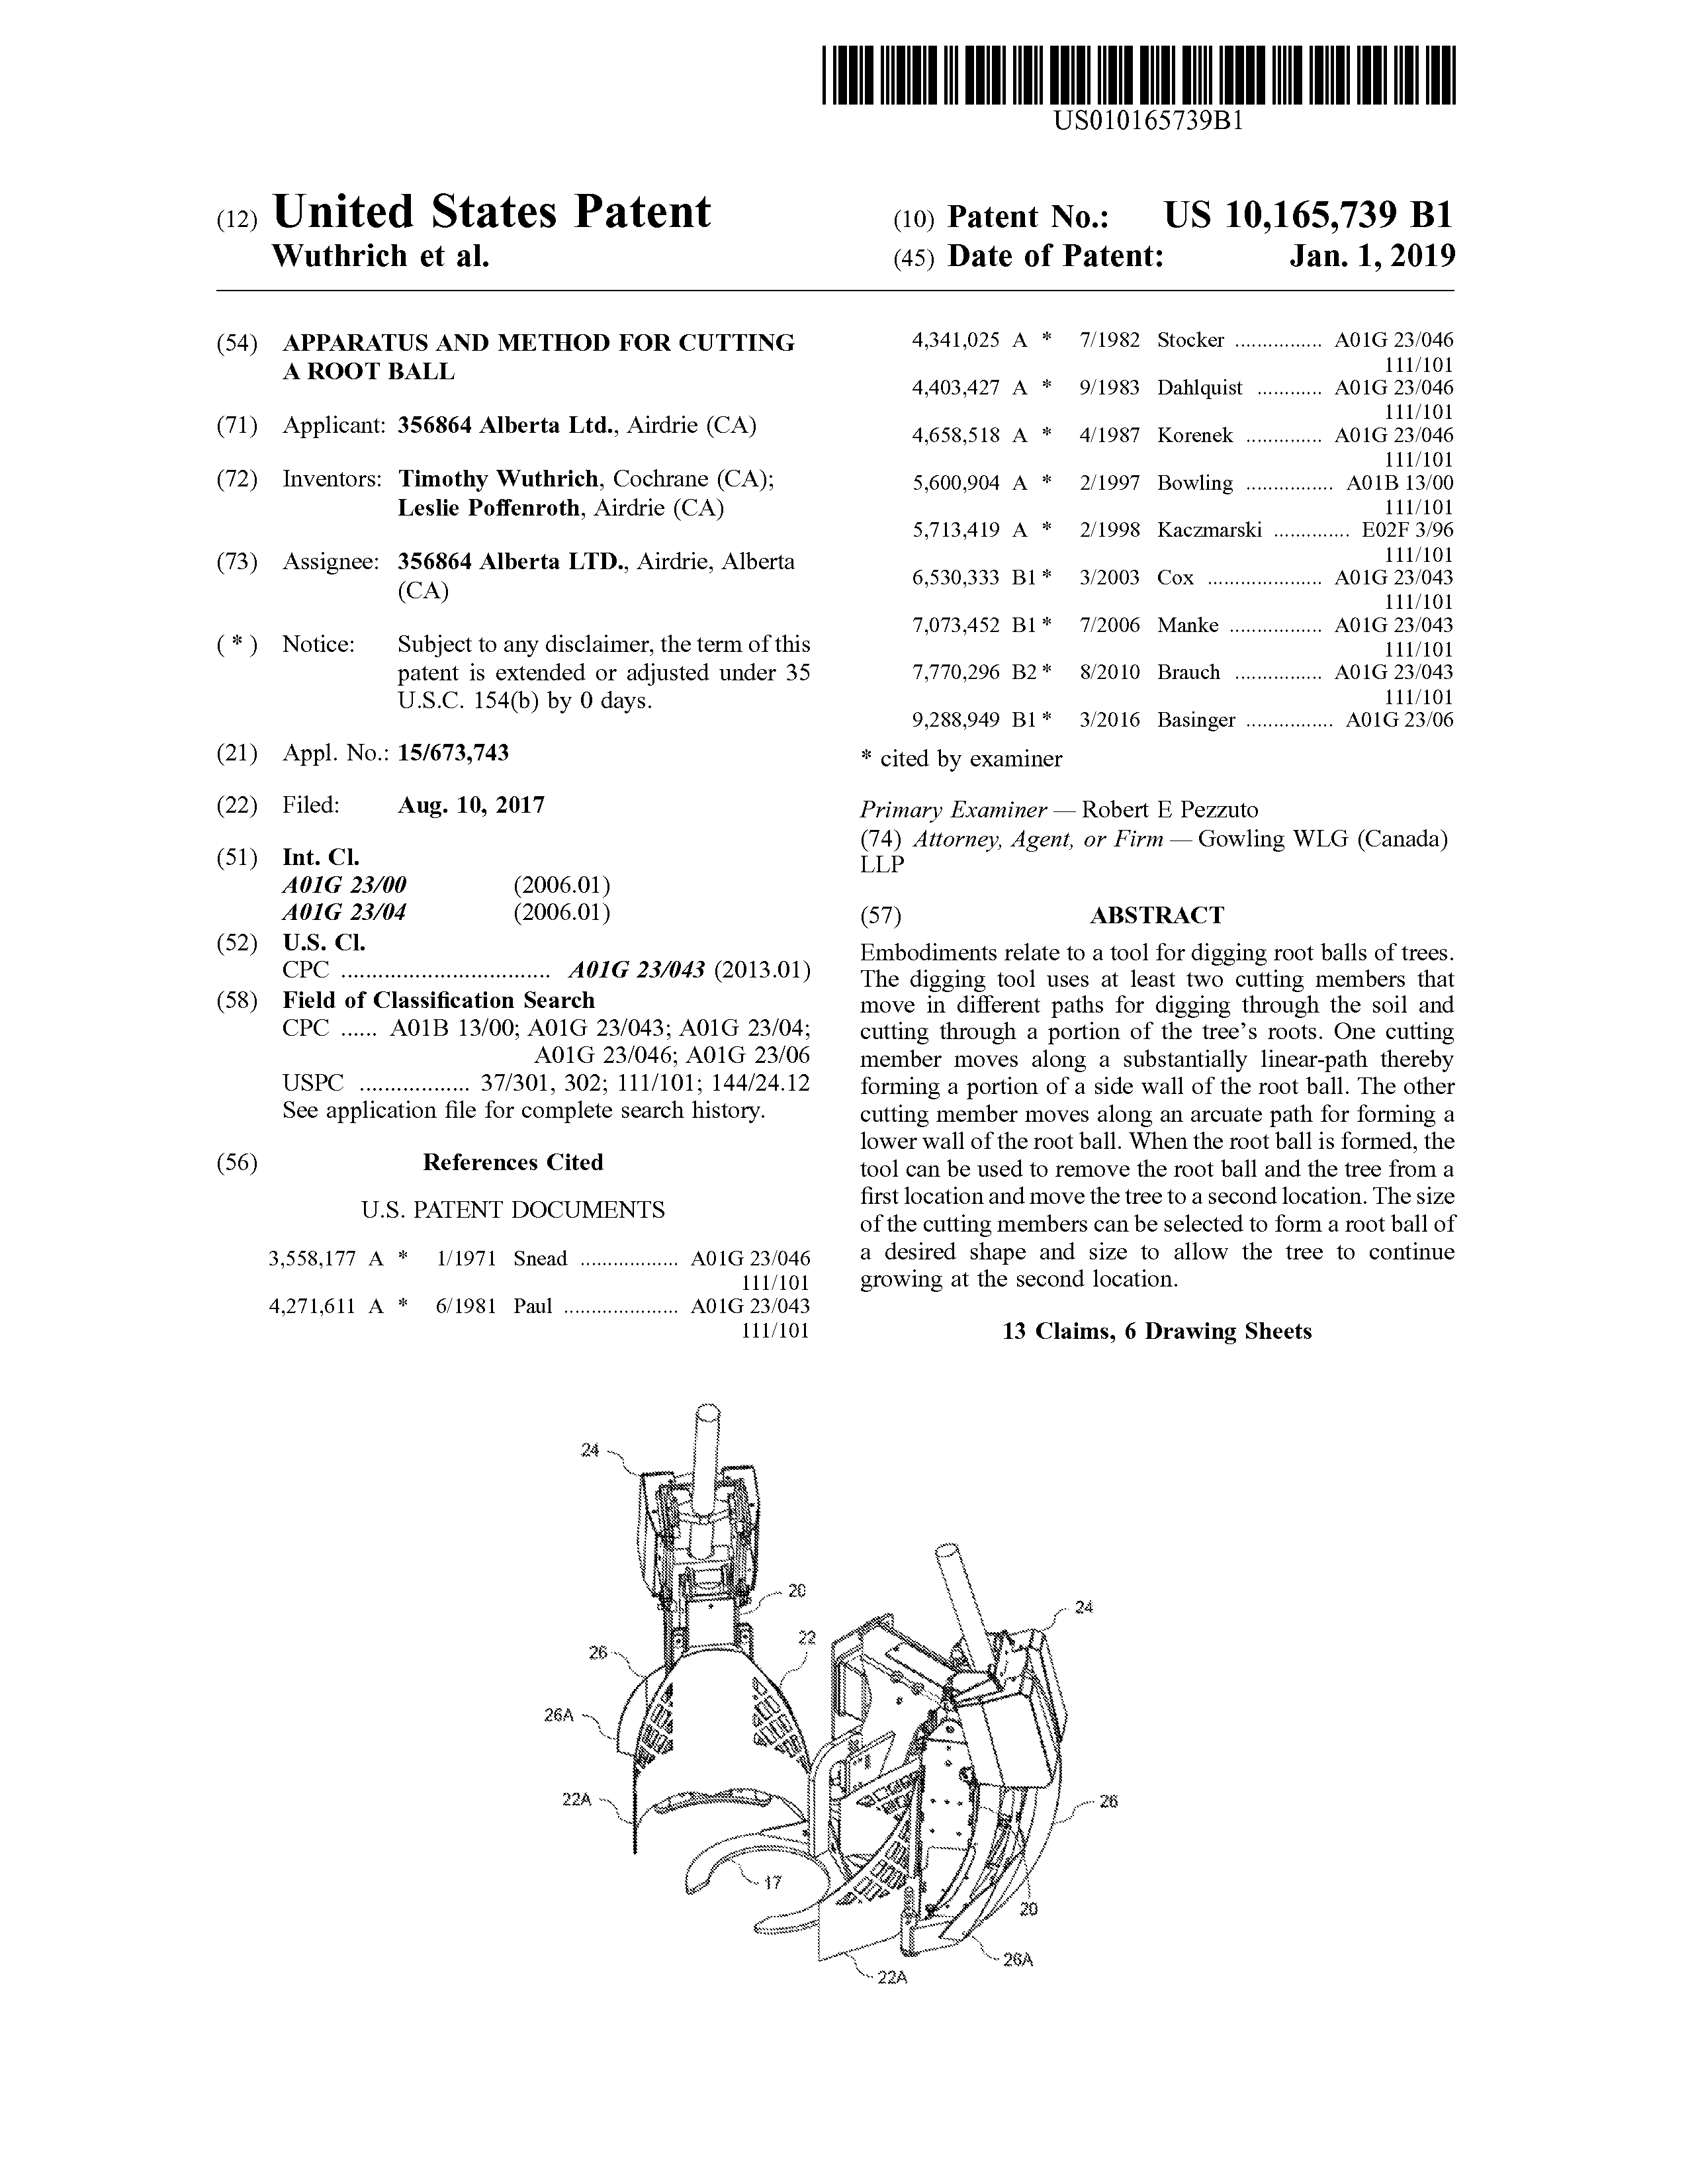patent image: (492, 1387, 1143, 1993)
